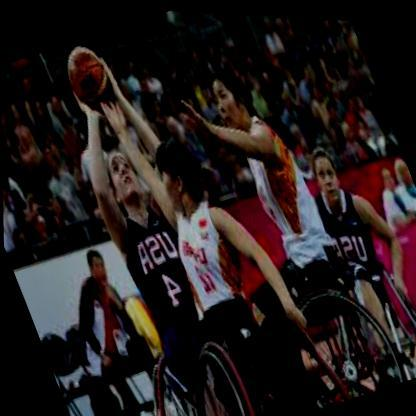basketball: (58, 37, 119, 116)
